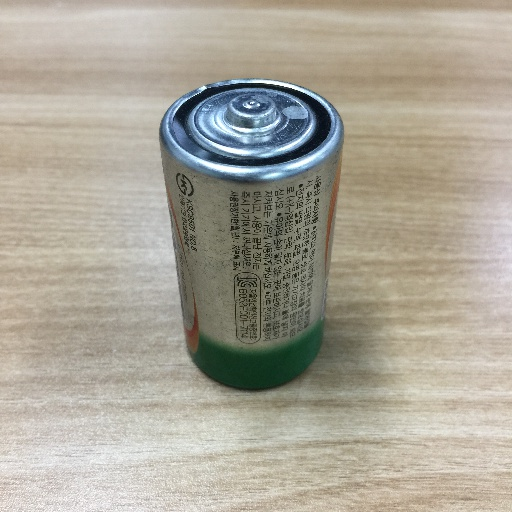Battery_0: (157, 70, 352, 405)
